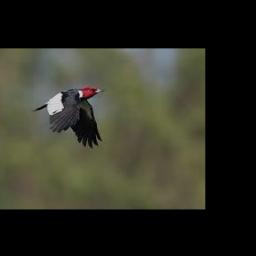Woodpecker: (31, 86, 105, 148)
